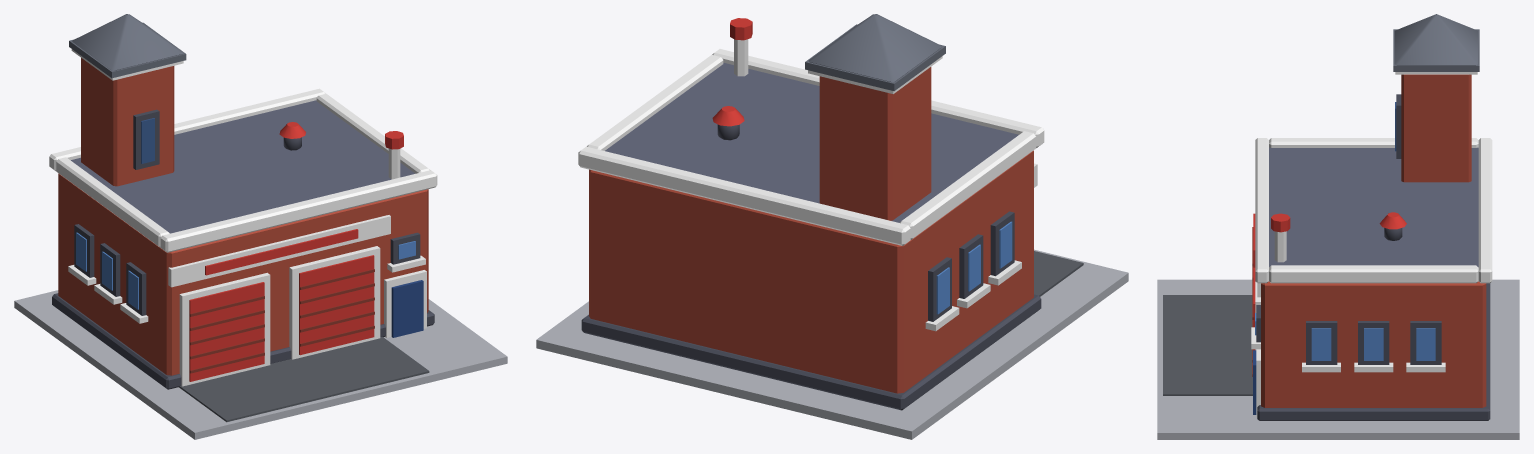
Rendered from fire-station.glb.
The picture shows the model from 3 angles, left to right: view 1: azimuth 30°, elevation 25°; view 2: azimuth 150°, elevation 25°; view 3: azimuth 270°, elevation 25°; orthographic projection. The views are drawn at different scales.
Parts seen in each view (by area): view 1: model; view 2: model; view 3: model.
Boxes of the visible parts, <box> form: model: <box>14,14,507,439</box>; model: <box>536,14,1128,439</box>; model: <box>1157,14,1519,439</box>.
Size of the model in its own units: 1.85 by 1.73 by 1.85.
Materials: 1 (1 with a texture image).
